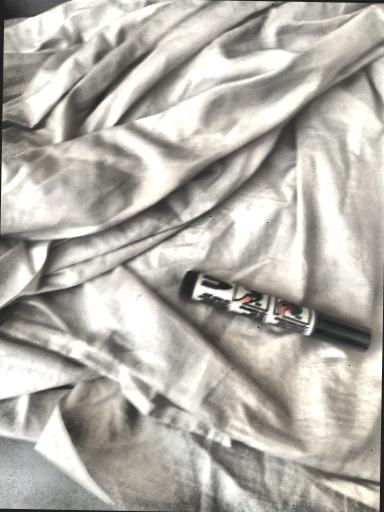marcador negro: (182, 272, 372, 352)
